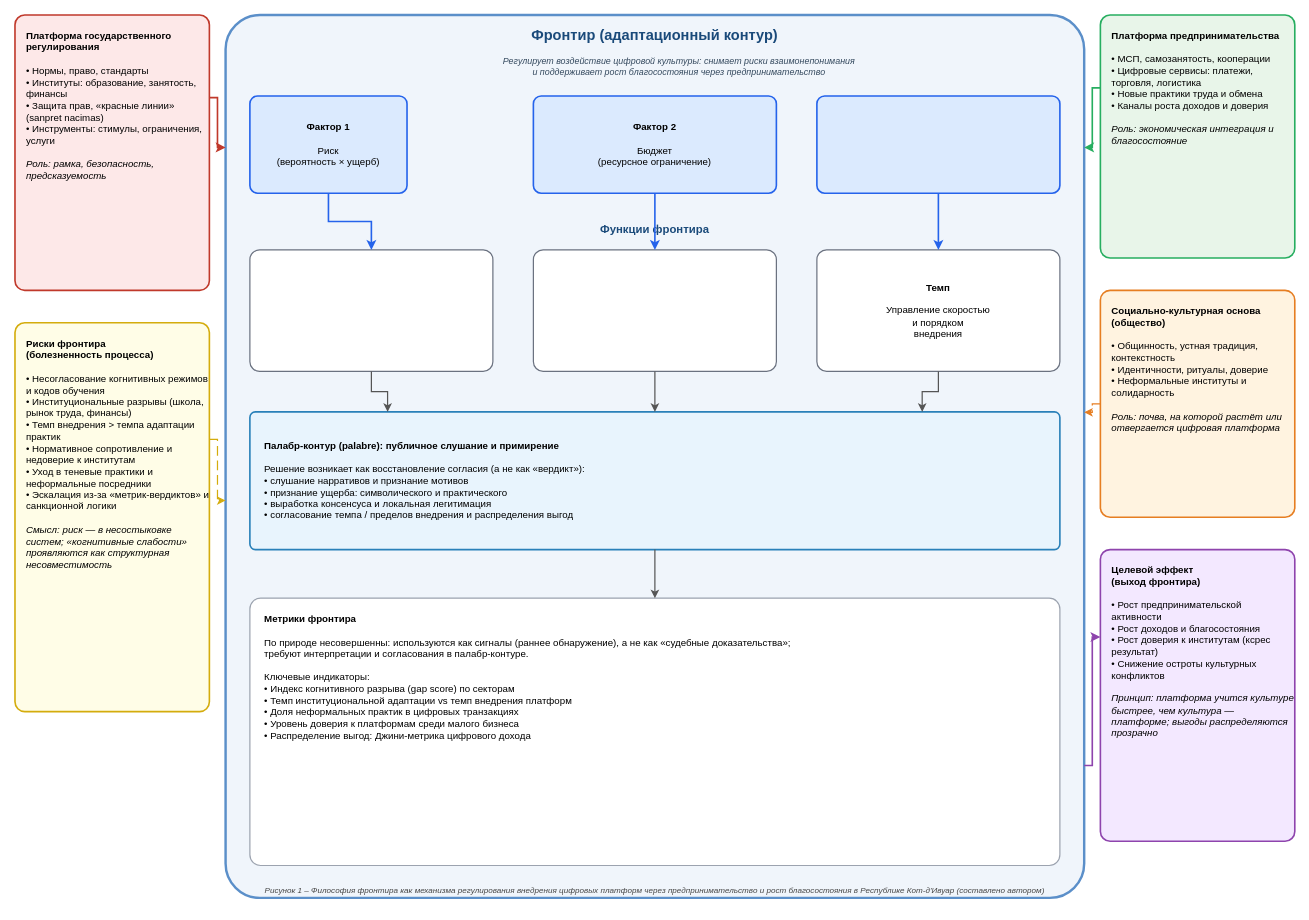
The diagram is 1309 pixels wide and 920 high, and some of its shapes have lost their labels. Here are the shapes that lost their labels. From the top down, the centre of each, then its label:
At point (938, 144): "Фактор 3 Фронтир (неясность / непредсказуемость)".
At point (371, 310): "Регистрация Где растёт напряжение? Какие разрывы в институтах?".
At point (654, 310): "Перевод Гибридные институты и практики совместимости".
